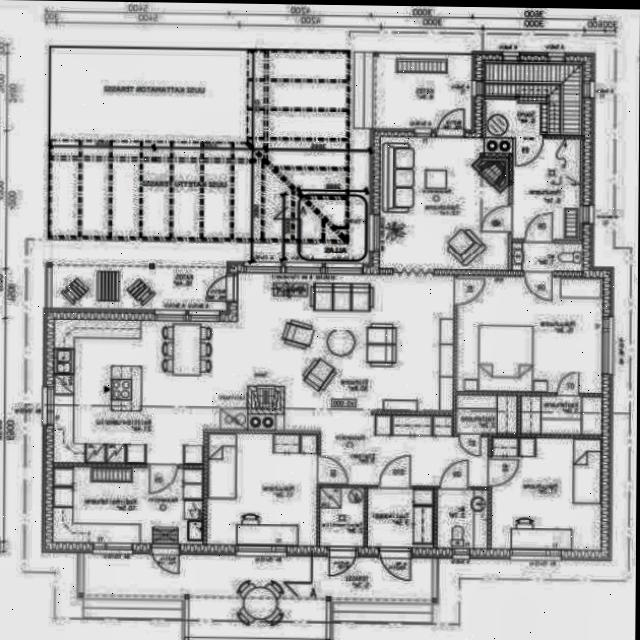room: (455, 277, 603, 394), (491, 438, 603, 550), (207, 433, 318, 546), (53, 467, 204, 544), (513, 139, 580, 239), (367, 488, 434, 548), (521, 396, 602, 434), (437, 490, 488, 549), (320, 487, 364, 546), (457, 395, 516, 433)
